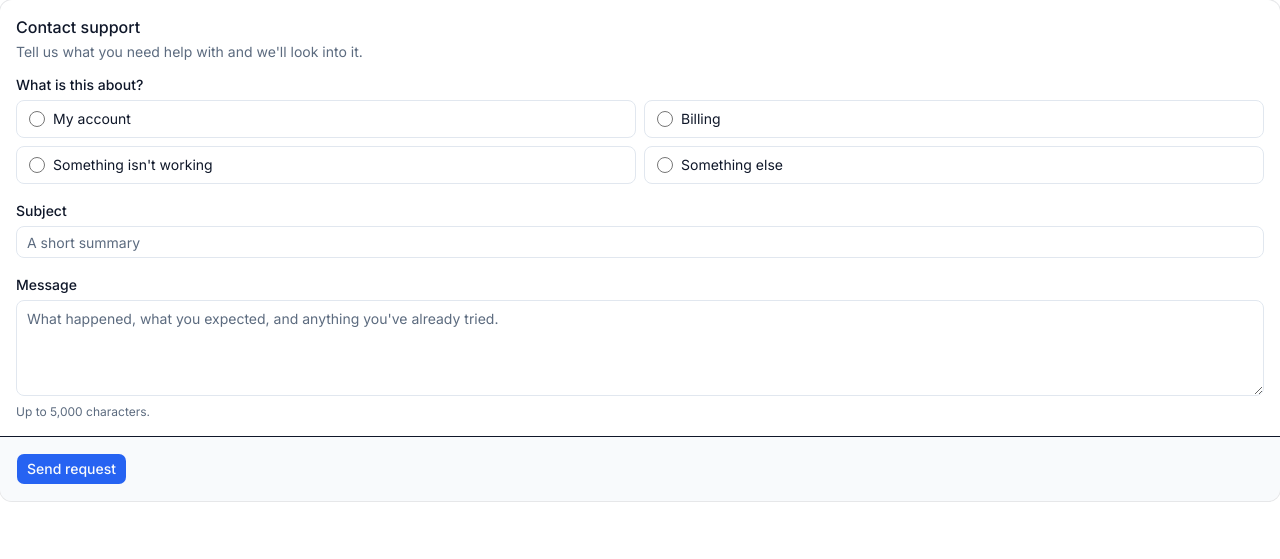
Test: SupportRequestForm – sending › shows a pending state, locks the fields and blocks a double submission
Click the radio button labelled "Billing": [665, 119] box top-left (657, 111), bottom-right (673, 127)
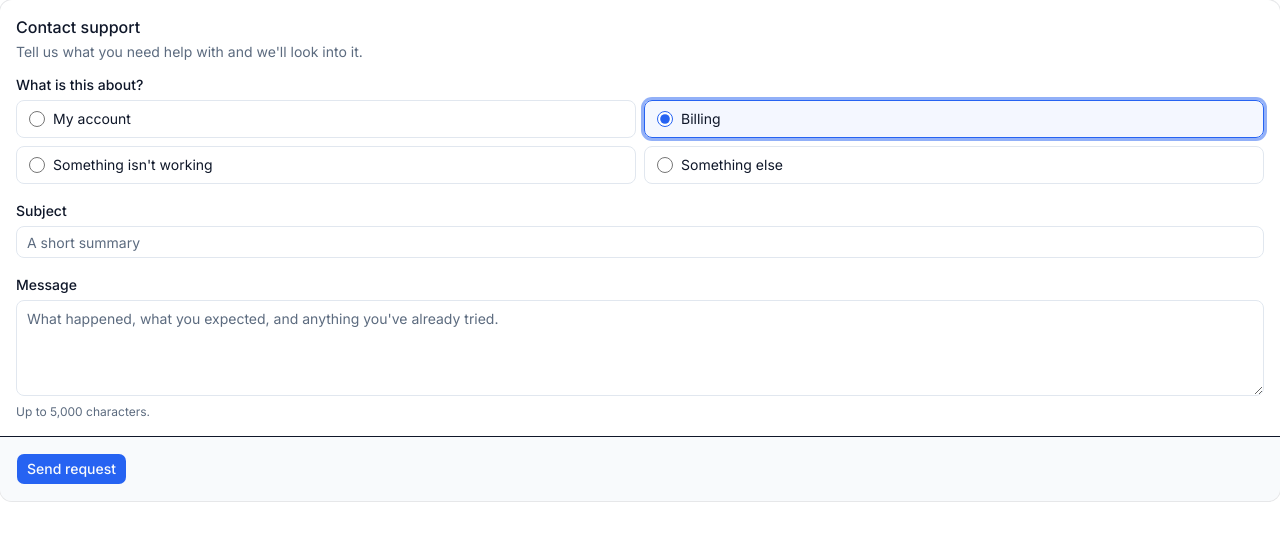
In the field labelled "Subject": [640, 242] box top-left (16, 226), bottom-right (1264, 258), type "Charged twice"
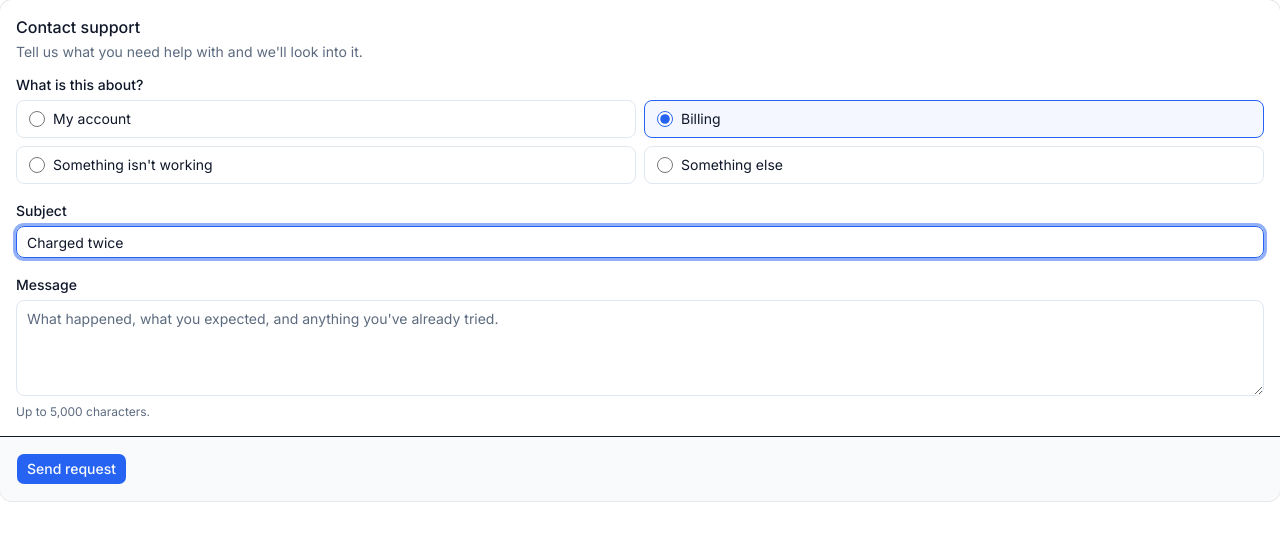
Replace the text in the text box labelled "Message" with "I see two charges.": [640, 348] box top-left (16, 300), bottom-right (1264, 396)
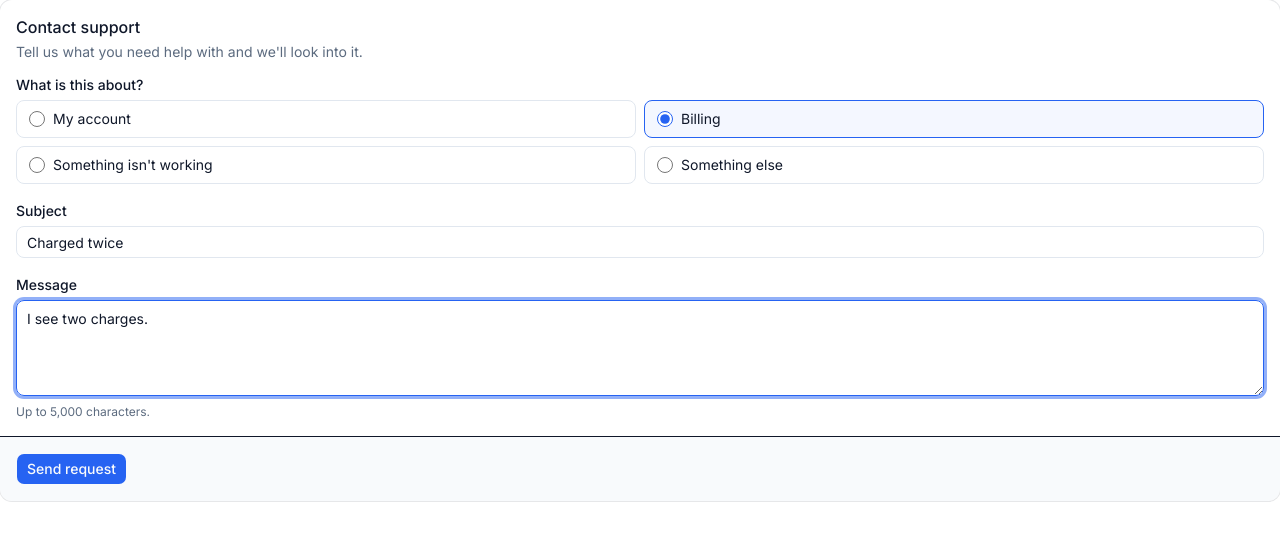
Click the button "Send request": [72, 469] box top-left (16, 453), bottom-right (127, 485)
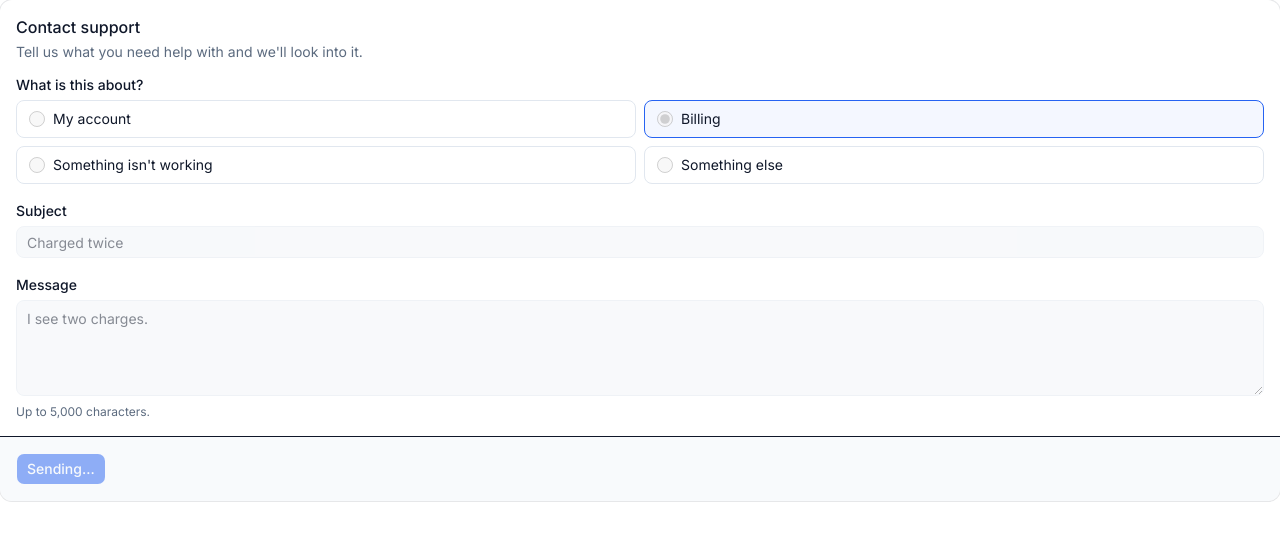
Expected: the field labelled "Subject" is disabled, top-left (16, 226), bottom-right (1264, 258)
Result: the button "Sending…" is disabled
Click the button "Sending…": [61, 469] box top-left (16, 453), bottom-right (106, 485)
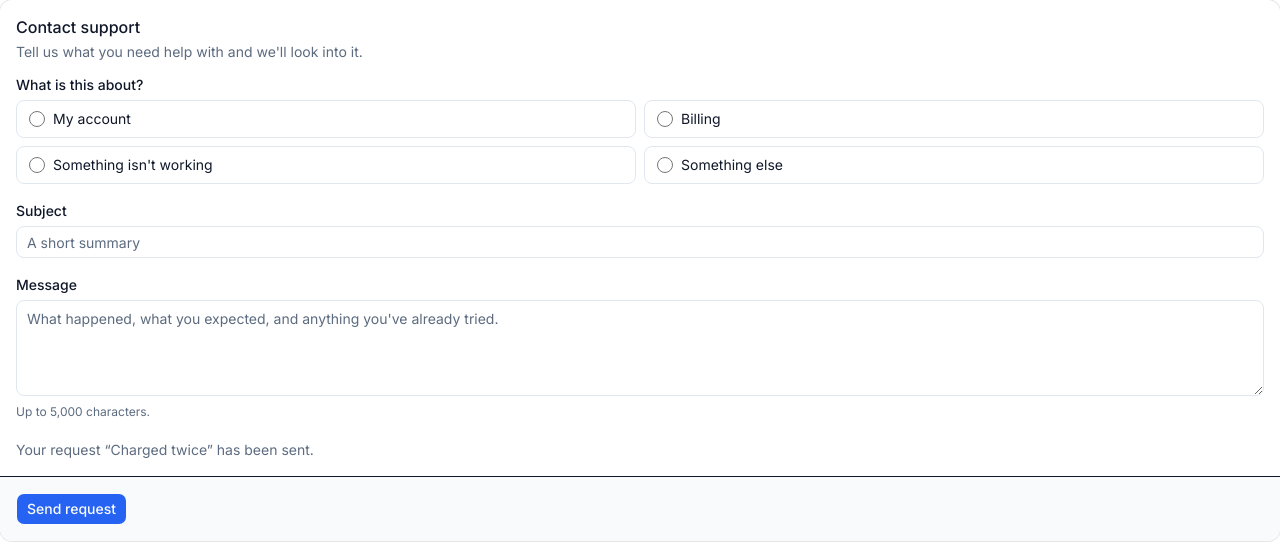
Expected: the field labelled "Subject" is enabled, top-left (16, 226), bottom-right (1264, 258)
Result: the message "Your request “Charged twice” has been sent." is shown at top-left (16, 441), bottom-right (314, 458)
